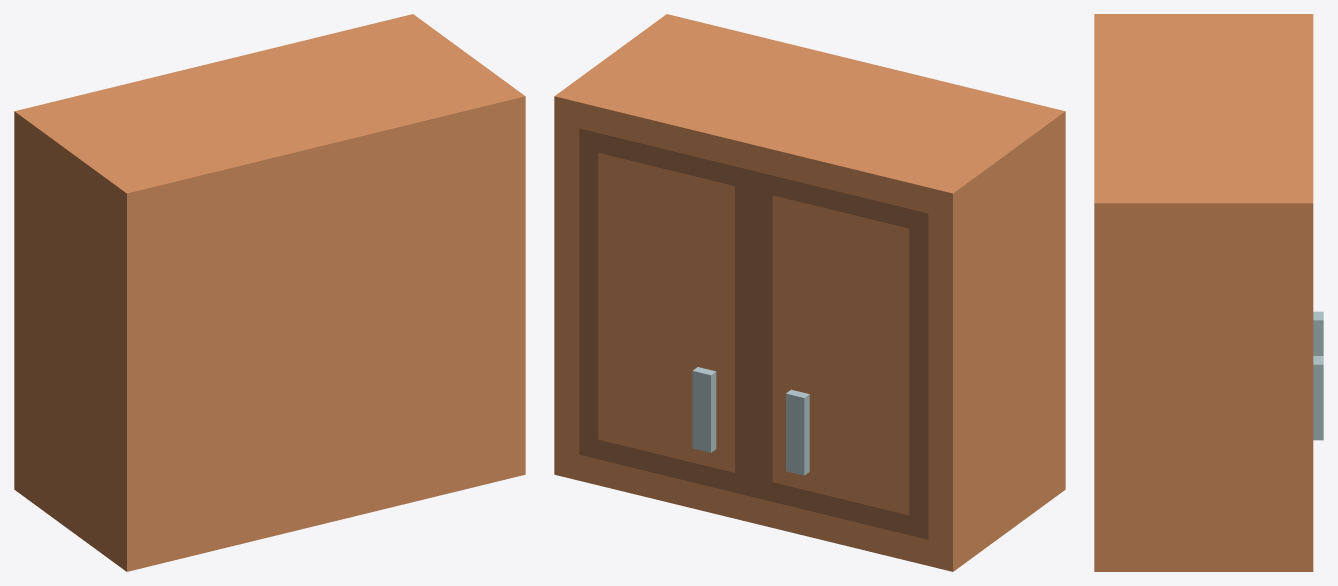
Rendered from kitchenCabinetUpperDouble.obj.
The picture shows the model from 3 angles, left to right: view 1: azimuth 30°, elevation 25°; view 2: azimuth 150°, elevation 25°; view 3: azimuth 270°, elevation 25°; orthographic projection. The views are drawn at different scales.
Parts seen in each view (by area): view 1: kitchenCabinetUpperDouble; view 2: kitchenCabinetUpperDouble, doorRight, doorLeft; view 3: kitchenCabinetUpperDouble, doorLeft, doorRight.
Part boxes in pixels (bbox=[...]): kitchenCabinetUpperDouble: bbox=[14, 14, 525, 571]; kitchenCabinetUpperDouble: bbox=[554, 14, 1065, 571]; doorRight: bbox=[753, 171, 928, 539]; doorLeft: bbox=[579, 128, 753, 496]; kitchenCabinetUpperDouble: bbox=[1094, 14, 1313, 571]; doorLeft: bbox=[1313, 356, 1323, 440]; doorRight: bbox=[1313, 311, 1323, 355].
Bounding box in the file's own units: 0.43 × 0.39 × 0.22.
